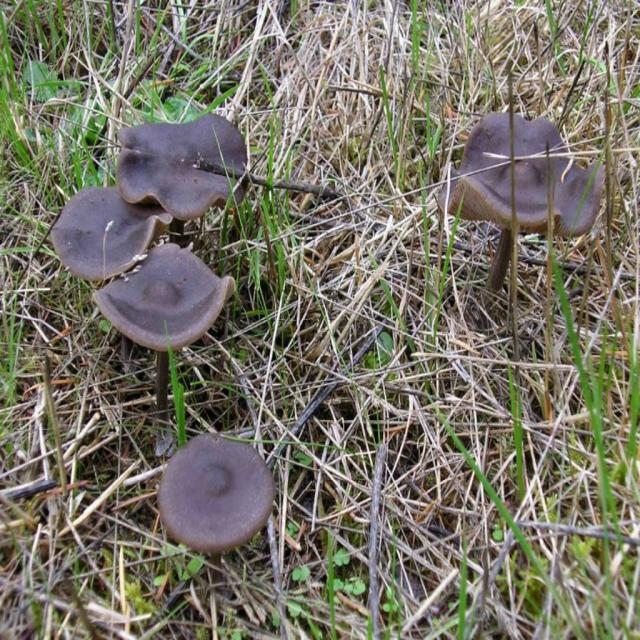Mushroom: (52, 110, 250, 455), (434, 110, 606, 304), (162, 432, 278, 594)
